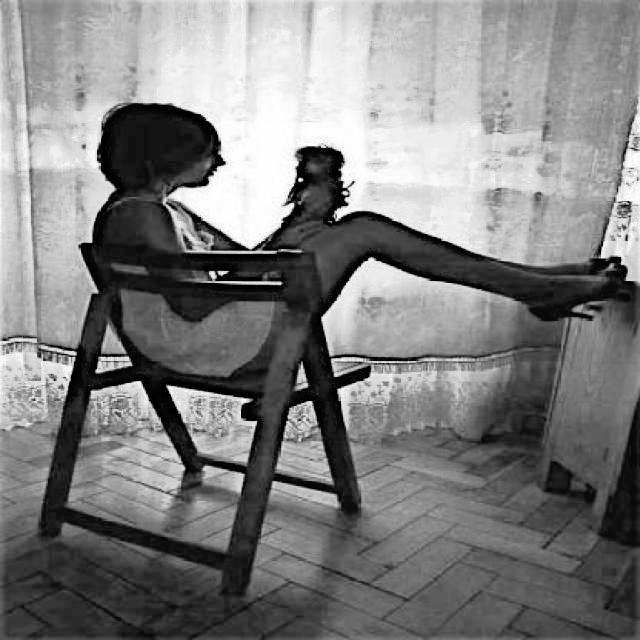Person: (75, 93, 629, 379)
